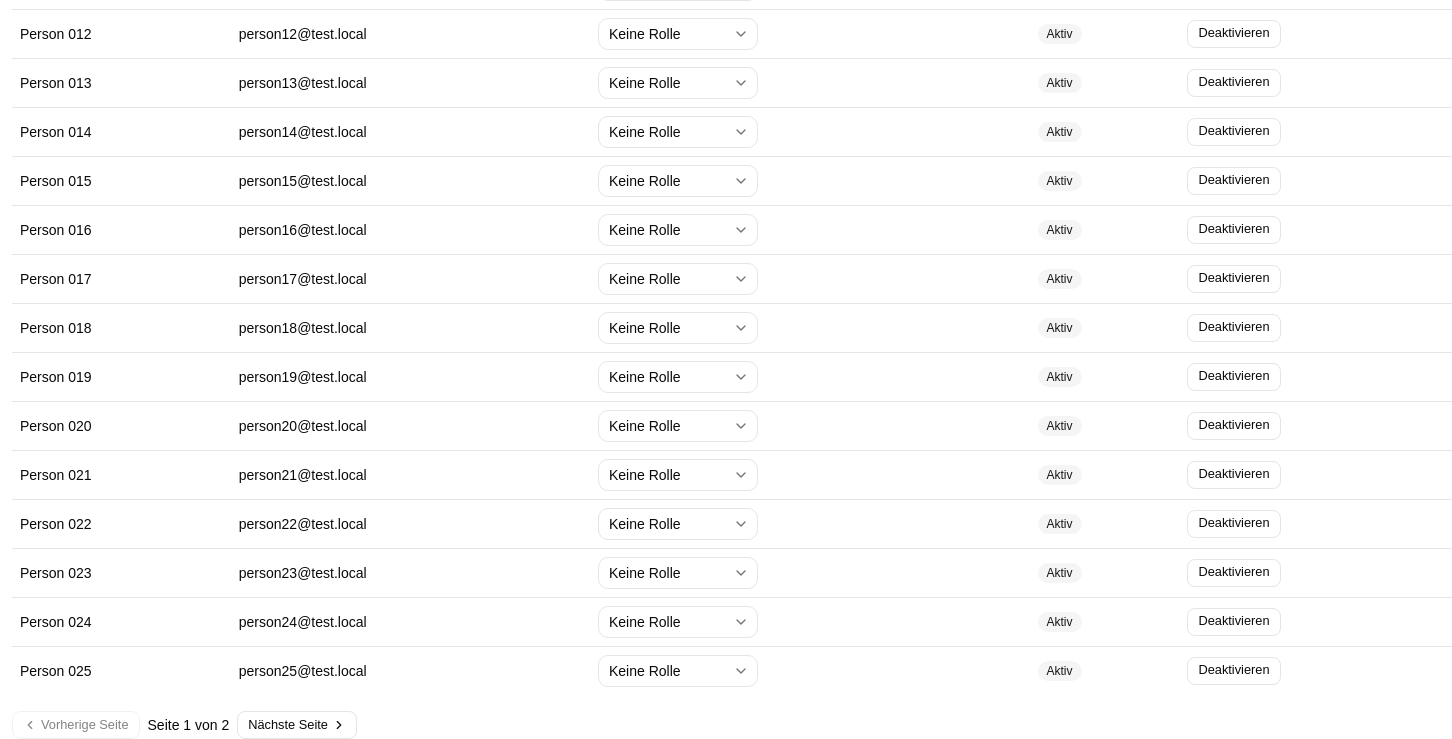
Scenario: Blättern › kehrt per „Vorherige Seite“ zu Seite 1 zurück
(page scrolled)
Check: the text "Seite 1 von 2" is shown, box [148,714,229,734]
Click the button "Nächste Seite" at (297, 724), box [237,710,357,738]
(page scrolled)
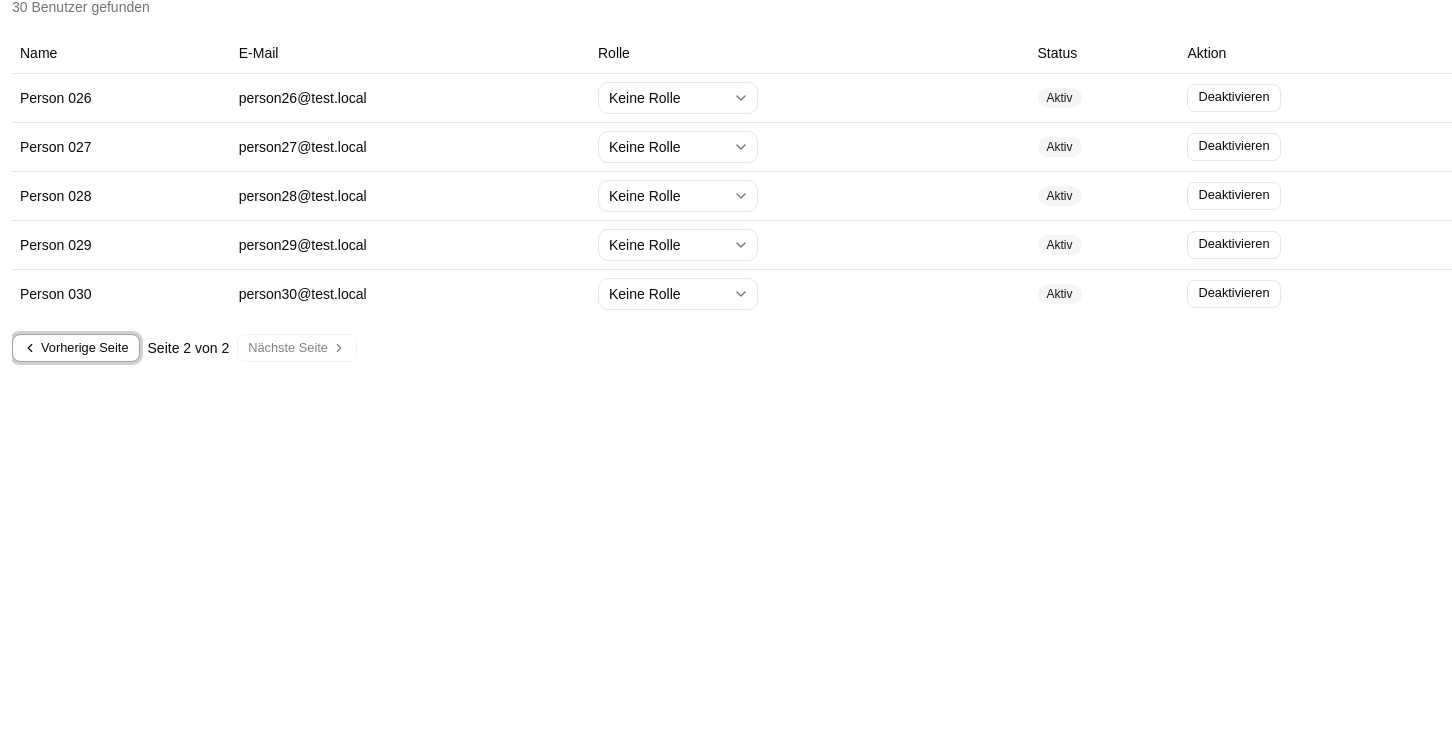
Check: the text "Seite 2 von 2" is shown, box [148,338,229,358]
Click the button "Vorherige Seite" at (76, 348), box [12,334,140,362]
(page scrolled)
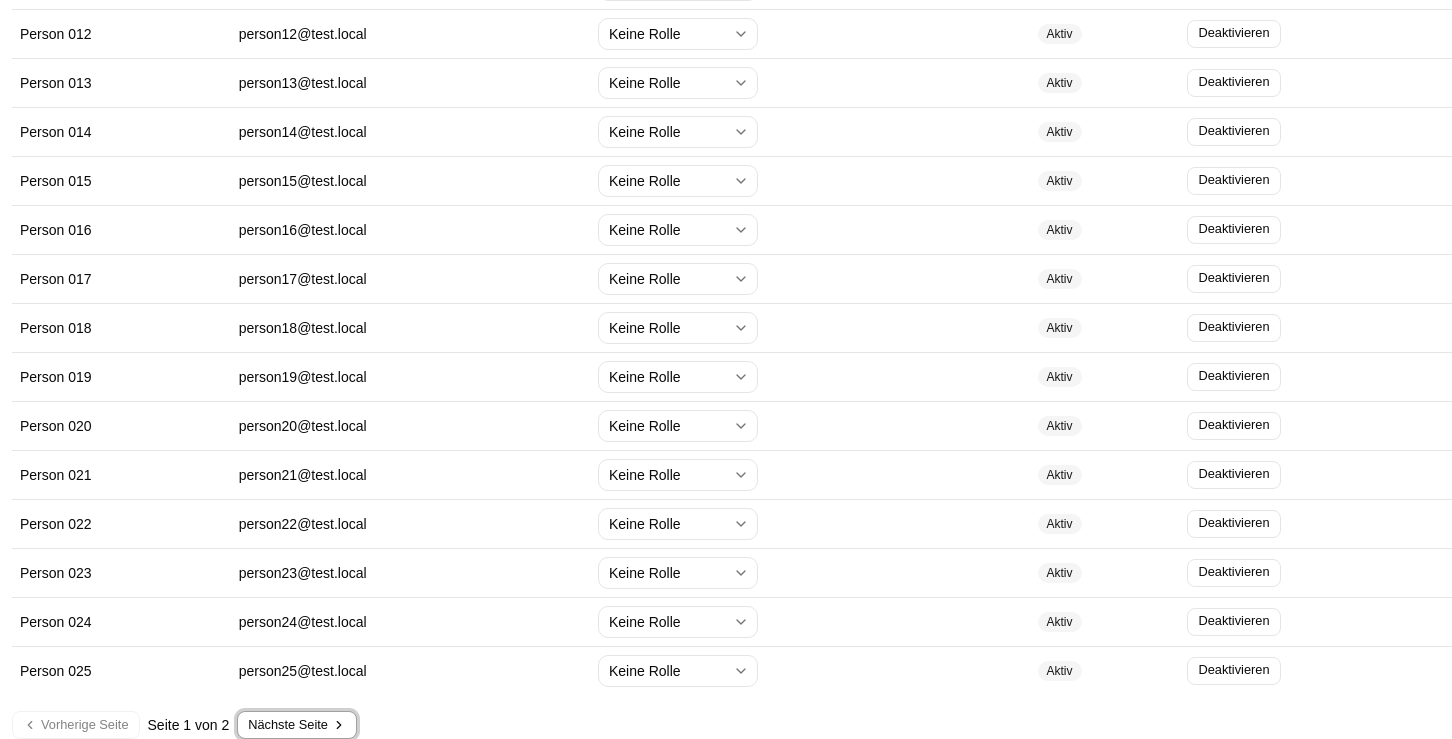
Check: the text "Seite 1 von 2" is shown, box [148,714,229,734]
